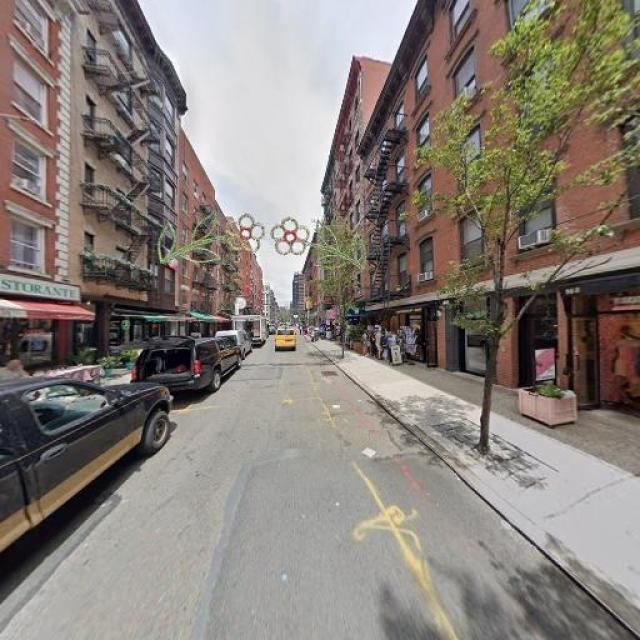Building: (444, 1, 640, 422), (84, 1, 180, 372), (1, 1, 78, 395), (362, 1, 440, 363), (327, 52, 359, 339), (184, 140, 213, 347)
